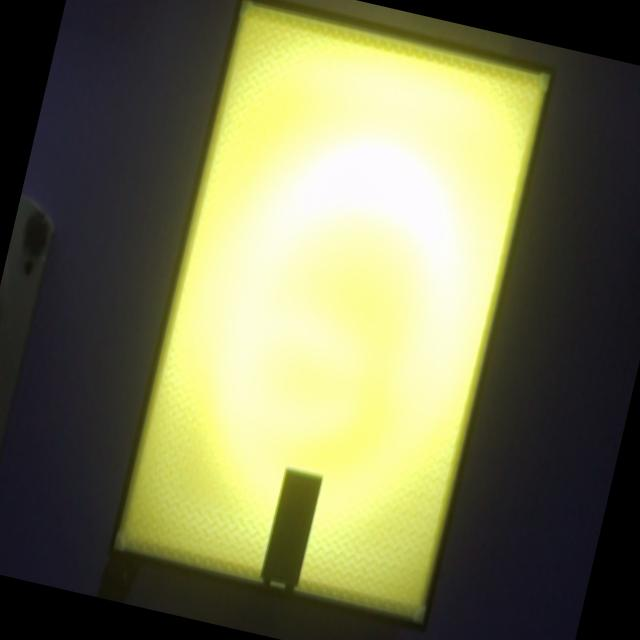bateria: (260, 468, 322, 593)
mesa: (106, 0, 557, 632)
